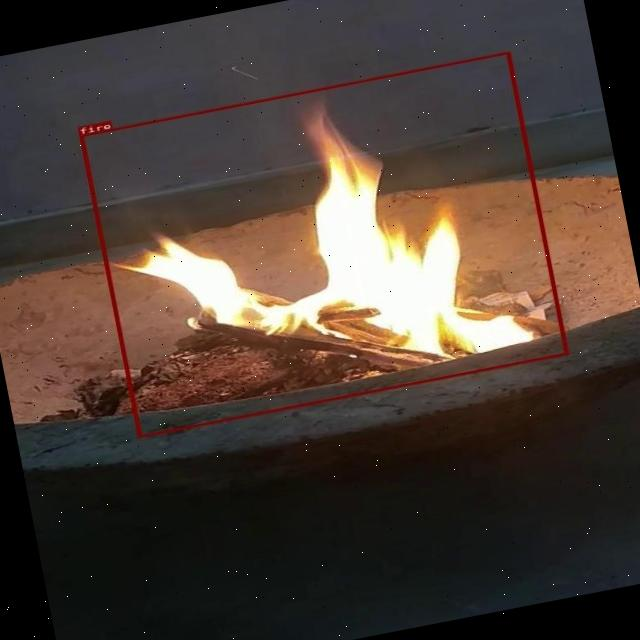fire: (79, 51, 568, 438)
